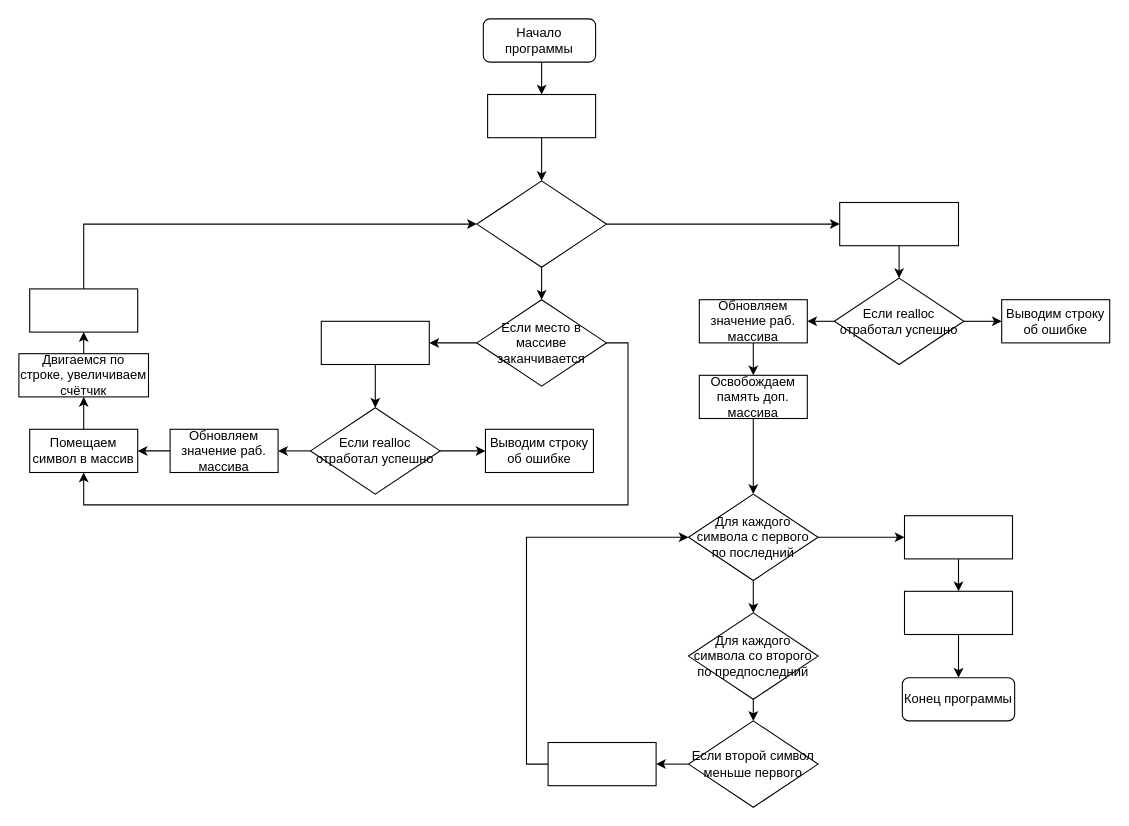
Image size: 1129x826. Some labels were removed from this diagram. Each missing label, with the centre of its shape:
Выводим строку: (958,537)
Меняем местами через третью переменную: (601,763)
Освобождаем память массива: (958,612)
Пока вводятся символы: (541,223)
Создание массива: (541,115)
Ставим нулевой символ: (83,310)
Увеличиваем массив вдвое: (374,342)
Уменьшаем массив до реального: (899,223)
